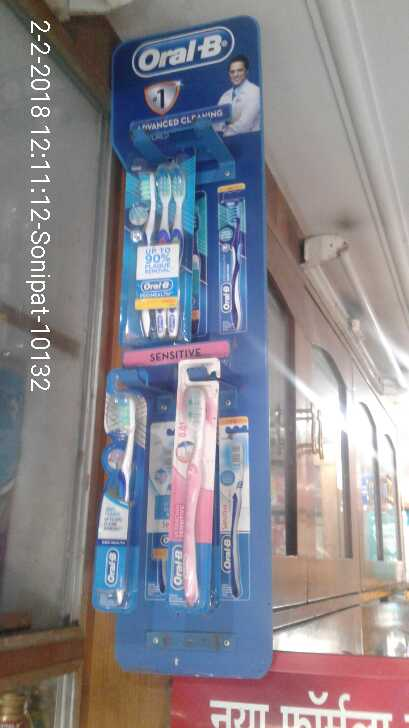oralb: (110, 167, 191, 342), (169, 344, 219, 602), (93, 387, 136, 603)
